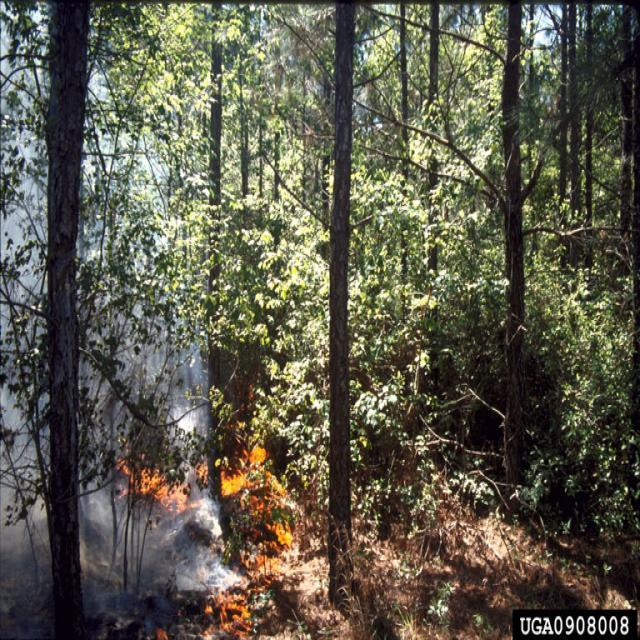Fire: (114, 444, 294, 640)
